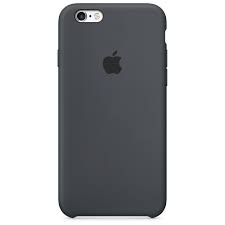iphone: (55, 1, 170, 220)
iphone6: (54, 1, 169, 221)
